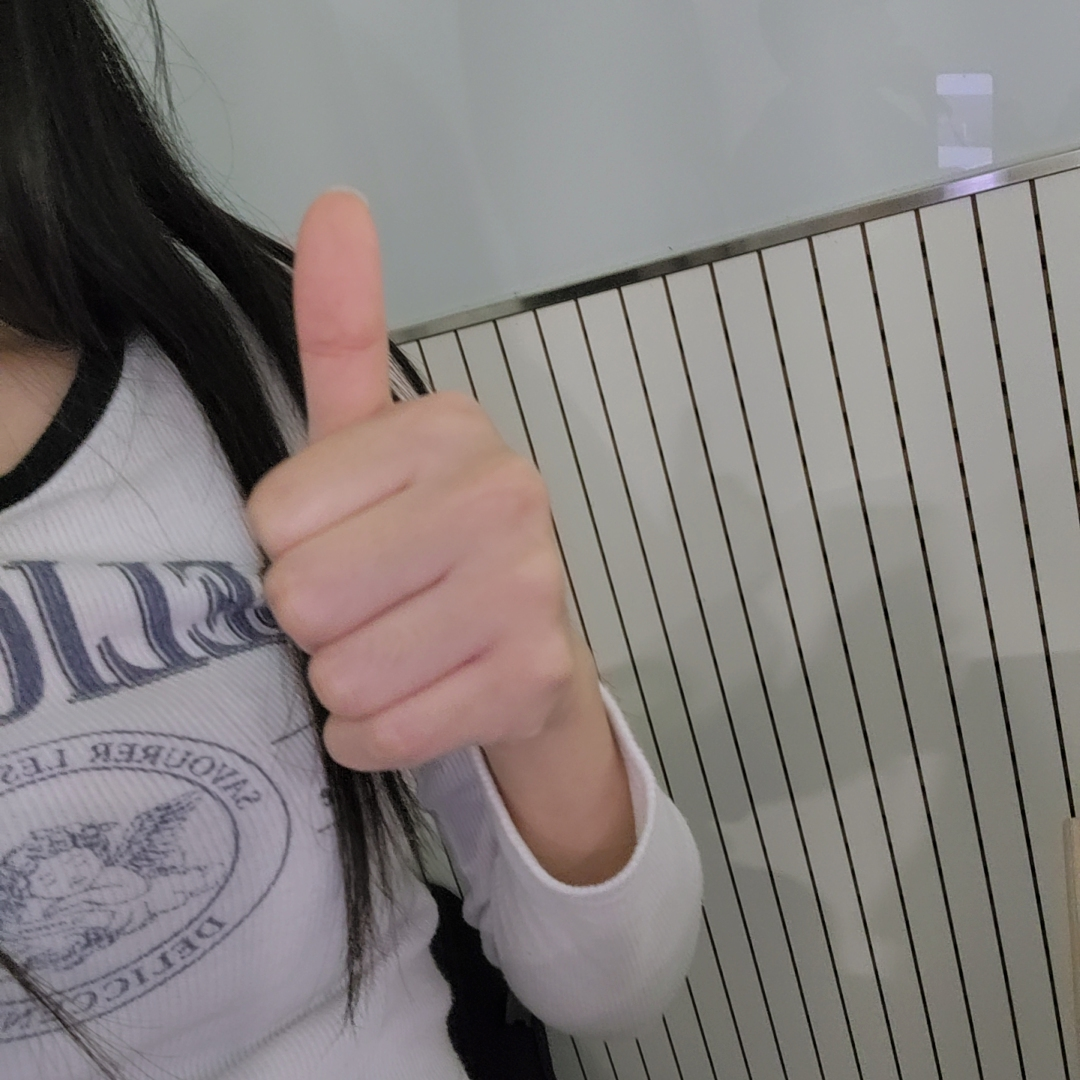best: (246, 189, 573, 768)
